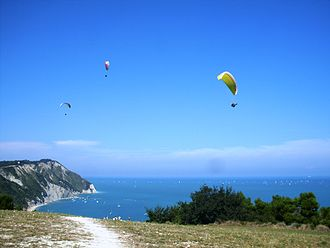Paraglider: (212, 71, 242, 97), (54, 99, 75, 108)
